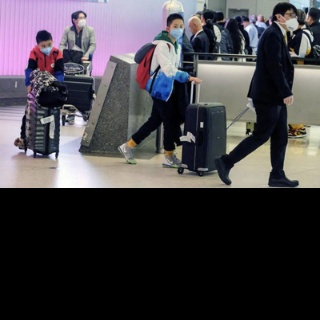with_mask: (283, 12, 300, 32), (170, 23, 184, 40), (38, 41, 53, 56), (76, 16, 87, 28)
